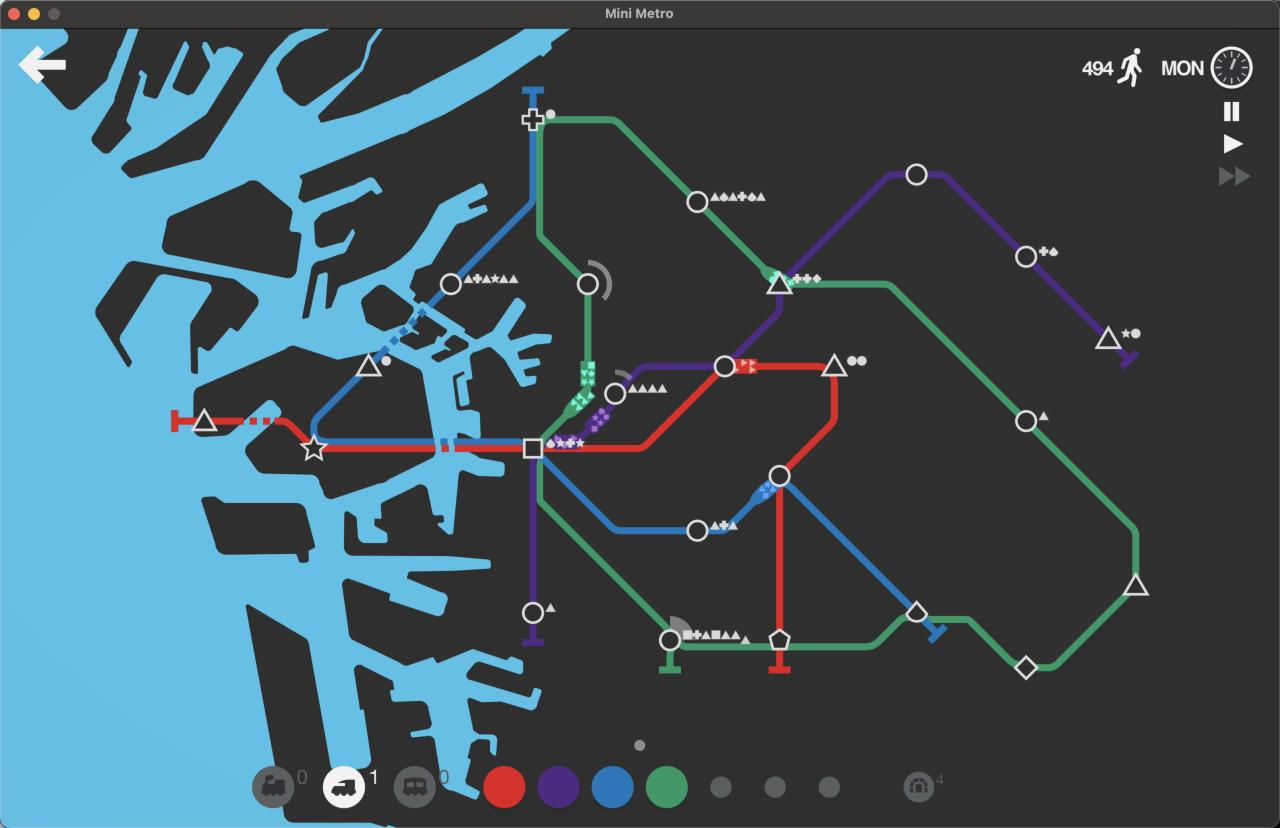CIRCLE: (575, 271, 600, 297), (768, 464, 792, 488), (521, 601, 545, 625), (1014, 409, 1038, 433), (1014, 245, 1038, 269), (686, 518, 709, 543), (439, 272, 462, 296), (713, 355, 737, 378), (686, 190, 709, 214), (905, 162, 928, 186), (659, 628, 681, 652), (604, 383, 627, 405)
CROSS: (520, 109, 544, 131)
GEM: (1014, 655, 1039, 680)
PENTAGON: (768, 628, 791, 651)
SQUARE: (523, 437, 544, 459)
STAR: (299, 434, 329, 462)
TRIANGLE: (1093, 325, 1122, 352), (820, 352, 850, 378), (191, 407, 219, 434), (765, 270, 795, 295), (355, 353, 383, 378), (1122, 573, 1149, 596)
WEDGE: (905, 600, 928, 623)
